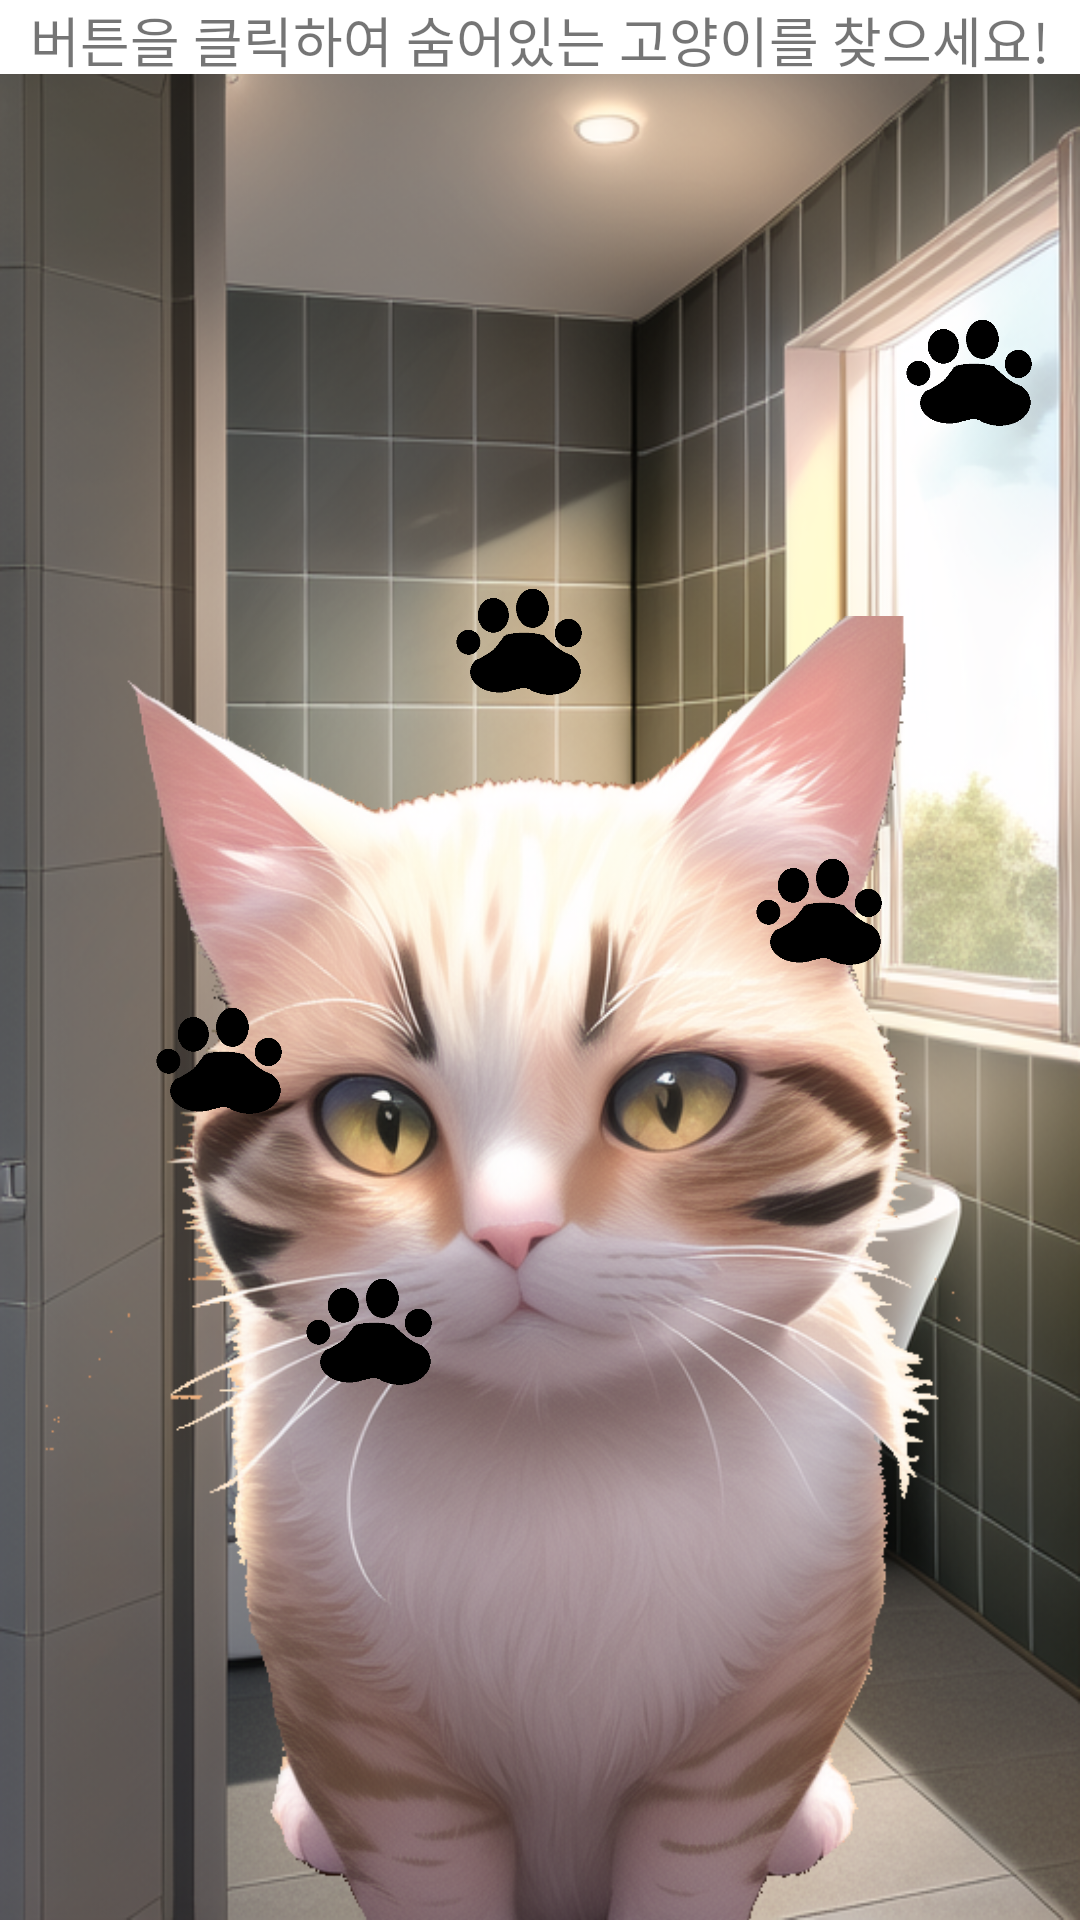

Screen size 1080 × 1920. Icon name, then its center in pixels as (x,y):
cathand: (975,346), (525,615), (825,885), (225,1034), (375,1305)
